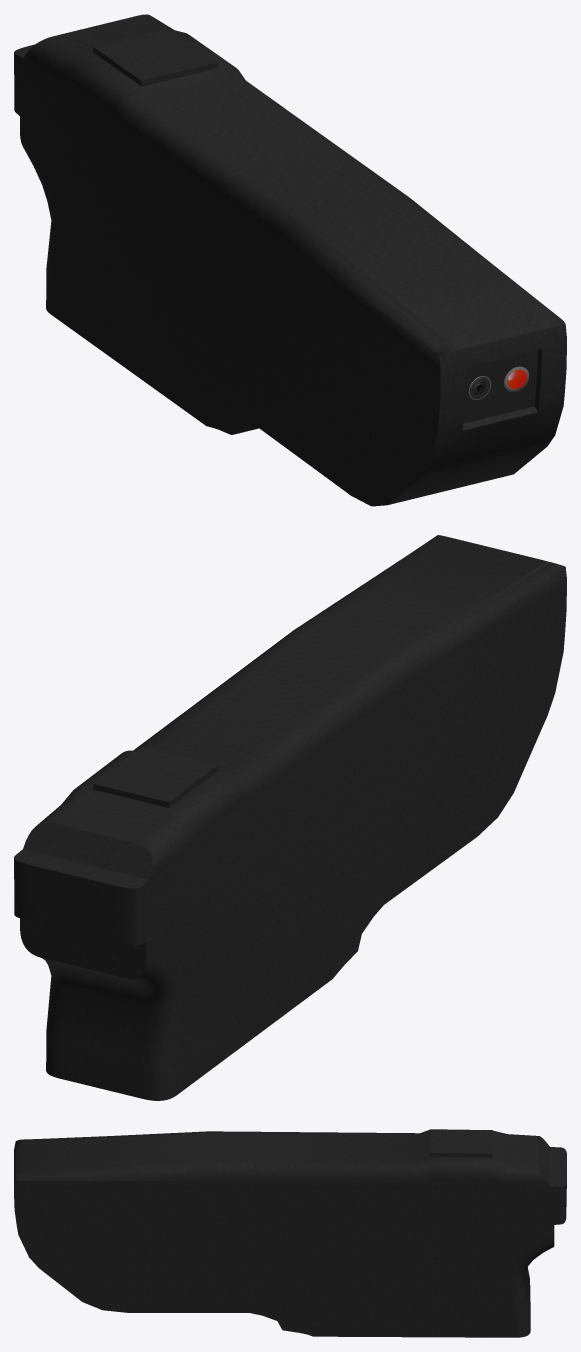
File: FingerScanner.fbx
The picture shows the model from 3 angles, top to bottom: view 1: azimuth 30°, elevation 25°; view 2: azimuth 150°, elevation 25°; view 3: azimuth 270°, elevation 25°; orthographic projection. The views are drawn at different scales.
Parts seen in each view (by area): view 1: Scanner; view 2: Scanner; view 3: Scanner.
Boxes of the visible parts, x1,y1,x2,y2 form: Scanner: (14, 14, 566, 506); Scanner: (14, 535, 566, 1100); Scanner: (14, 1129, 566, 1337).
Size of the model in its own units: 7 by 14.58 by 41.31.
1 material, 1 textured.
